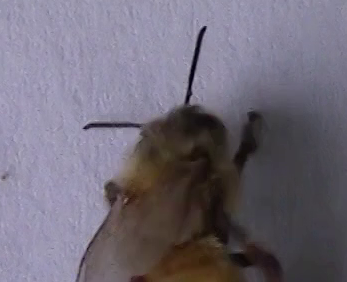Varroa destructor: (124, 190, 150, 220)
